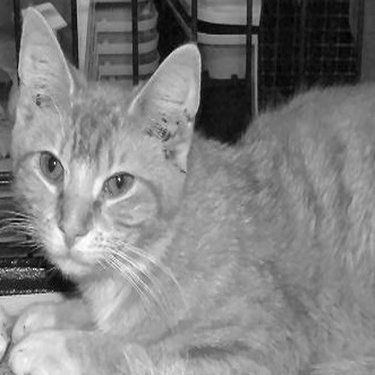cat: (12, 5, 370, 371)
